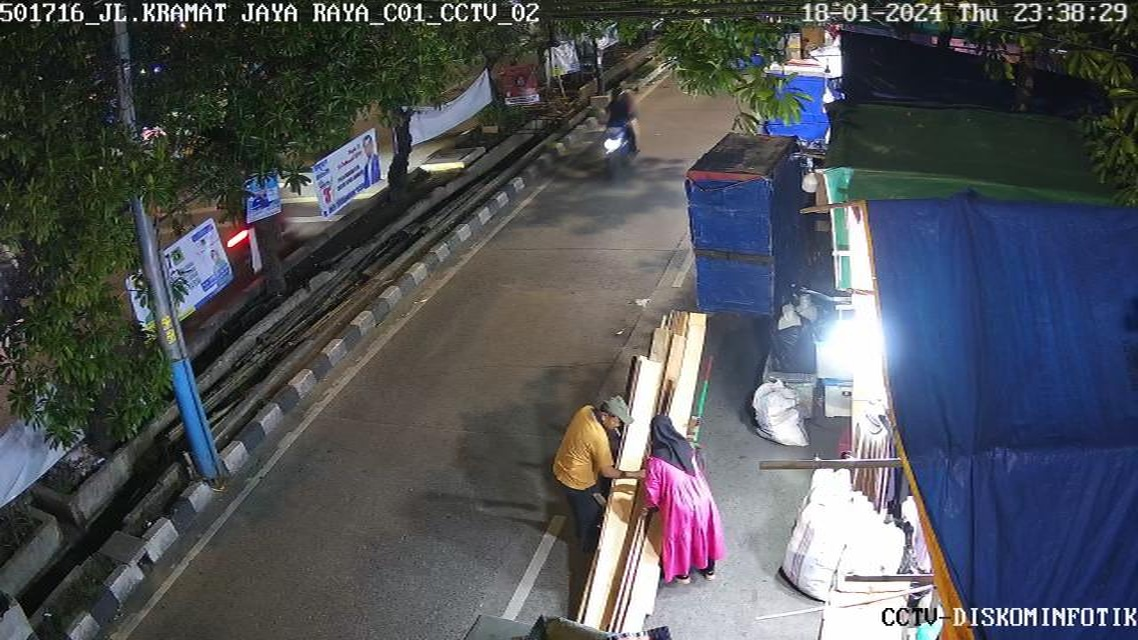Gerobak: (669, 116, 811, 315)
